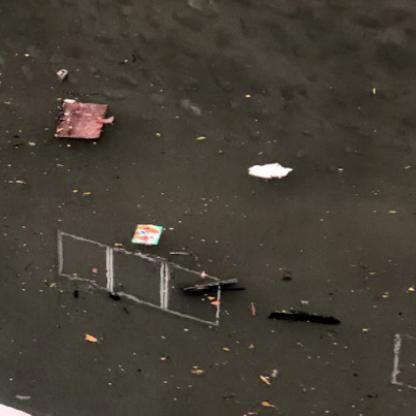Trash: (249, 156, 293, 185), (130, 220, 167, 247)
